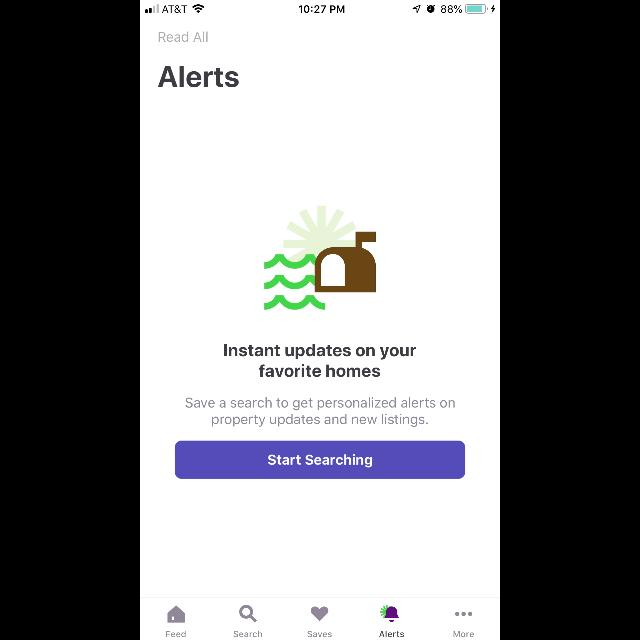icon: (264, 206, 376, 310), (239, 605, 257, 623), (380, 606, 400, 622), (168, 606, 185, 622), (312, 606, 328, 622), (456, 612, 472, 616)
text: (186, 397, 454, 427), (224, 344, 416, 376), (159, 68, 239, 88), (159, 32, 209, 42), (234, 631, 262, 637), (308, 631, 332, 637), (380, 631, 404, 637), (454, 631, 474, 637), (167, 631, 186, 637)
textbutton: (175, 441, 465, 479)
uppertaskbar: (140, 0, 500, 14)
